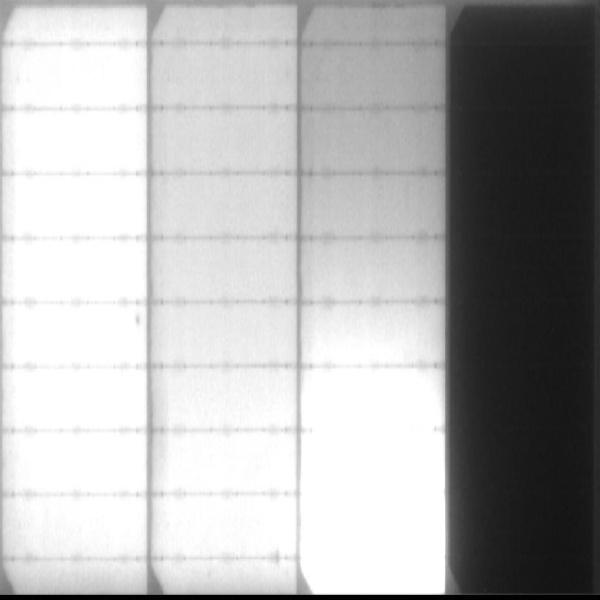hot_spot: (317, 375, 433, 589), (9, 244, 140, 298), (15, 437, 138, 490), (19, 180, 139, 234), (23, 114, 138, 168), (176, 499, 291, 553), (28, 501, 140, 554), (20, 313, 135, 361), (25, 57, 141, 103), (21, 378, 138, 422), (185, 441, 290, 489)
no_electricity: (447, 1, 600, 591)
